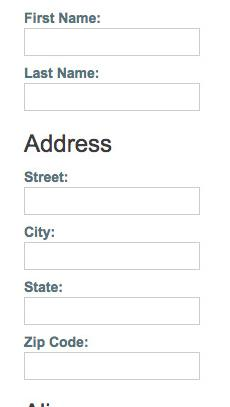field: (21, 184, 202, 217), (24, 239, 201, 272), (22, 350, 202, 382), (21, 26, 202, 57), (21, 296, 201, 326), (21, 82, 200, 112)
field_with_label: (18, 168, 205, 218), (22, 225, 204, 276), (18, 10, 204, 59), (18, 334, 203, 383), (18, 280, 204, 328), (18, 66, 203, 113)
